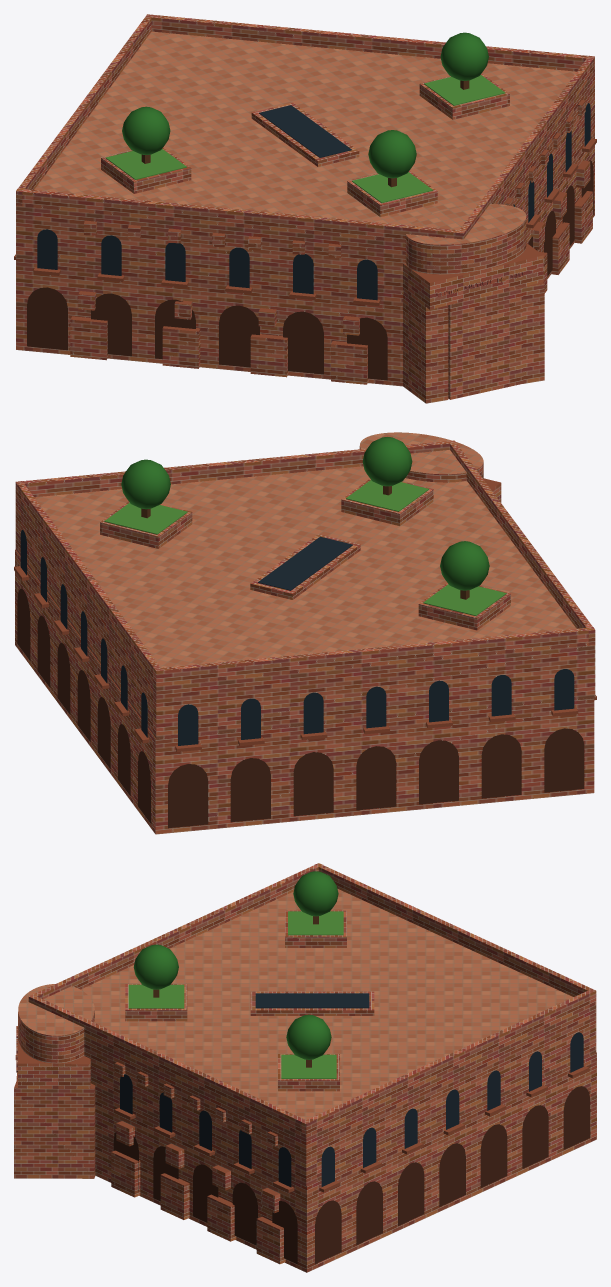
File: centro_cultural.glb
3 views of the same model, one above another, from view 1: azimuth 30°, elevation 25°; view 2: azimuth 150°, elevation 25°; view 3: azimuth 270°, elevation 25° (orthographic). The views are drawn at different scales.
Visible parts, largest first — view 1: Mesh_Mesh_head_geo.001_lambert2SG.001; view 2: Mesh_Mesh_head_geo.001_lambert2SG.001; view 3: Mesh_Mesh_head_geo.001_lambert2SG.001.
Boxes of the visible parts, box(x1,y1,x2,y2) form: Mesh_Mesh_head_geo.001_lambert2SG.001: box(14, 14, 596, 403); Mesh_Mesh_head_geo.001_lambert2SG.001: box(14, 432, 596, 834); Mesh_Mesh_head_geo.001_lambert2SG.001: box(14, 863, 596, 1272).
Bounding box in the file's own units: 0.3 × 0.1056 × 0.283.
Materials: 8 (2 with a texture image).
